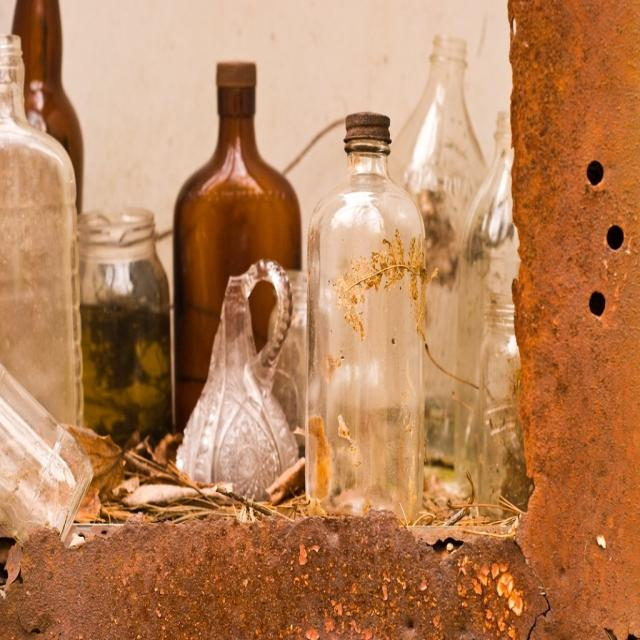Glass: (0, 0, 540, 537)
